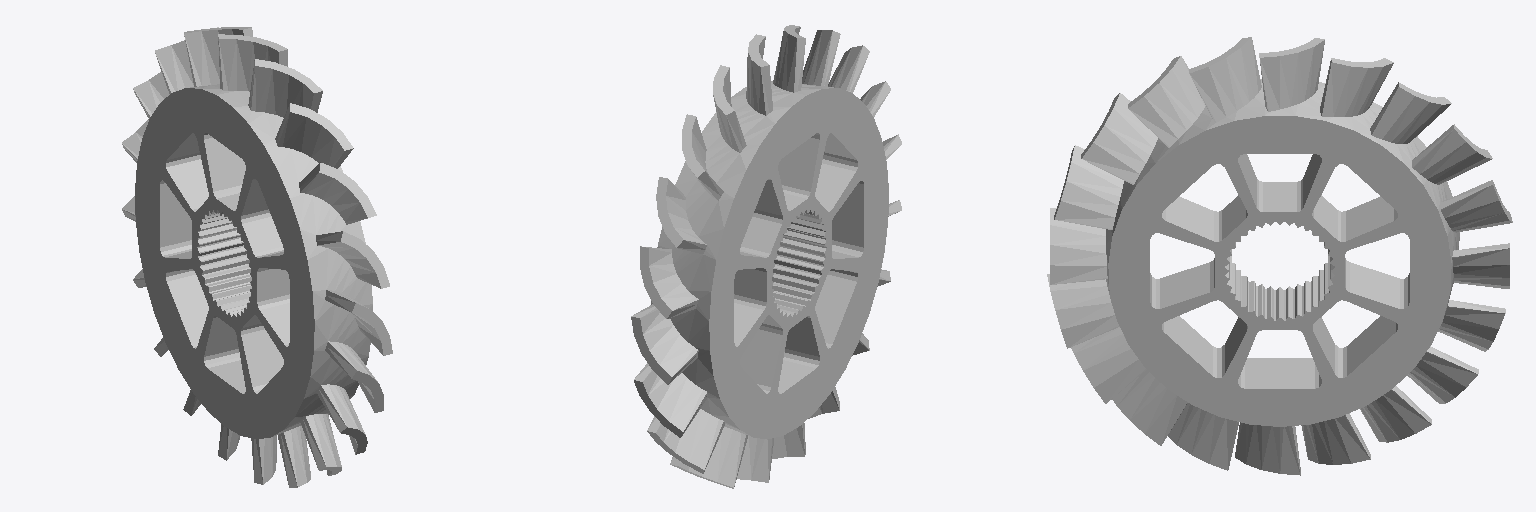
3 renders of one model, left to right at view 1: azimuth 30°, elevation 25°; view 2: azimuth 150°, elevation 25°; view 3: azimuth 270°, elevation 25°, orthographic.
Visible parts, largest first — view 1: Компрессор_№03.001; view 2: Компрессор_№03.001; view 3: Компрессор_№03.001.
Part boxes in pixels (x1,y1,x2,y2): Компрессор_№03.001: (122, 27, 392, 487); Компрессор_№03.001: (631, 25, 901, 488); Компрессор_№03.001: (1047, 37, 1512, 475).
Bounding box in the file's own units: 10 × 64.76 × 64.76.